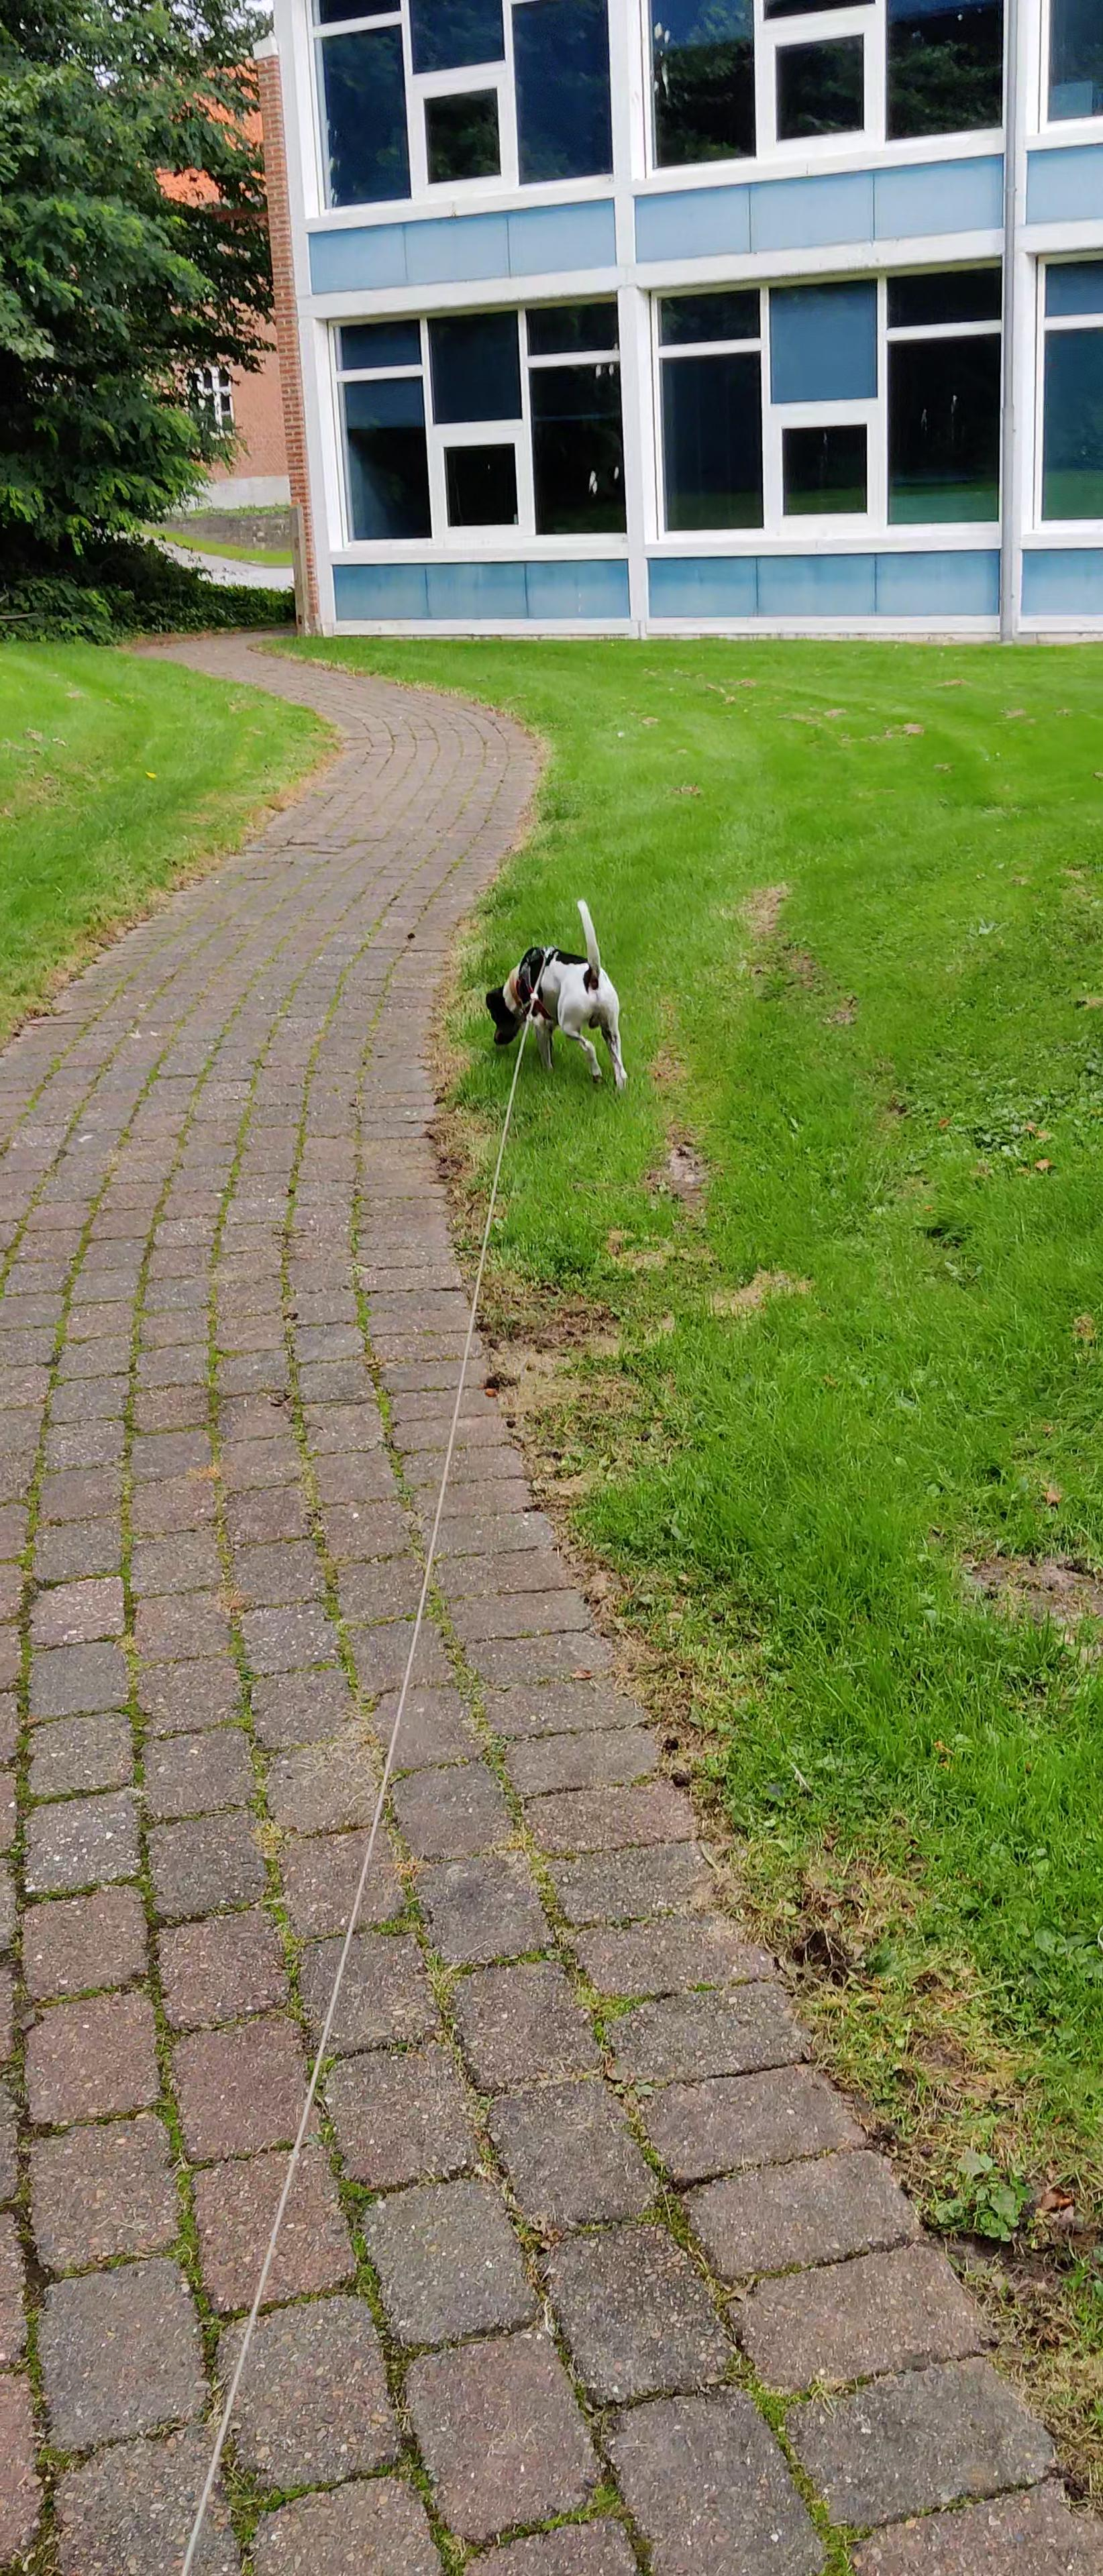Dog: (482, 899, 630, 1094)
